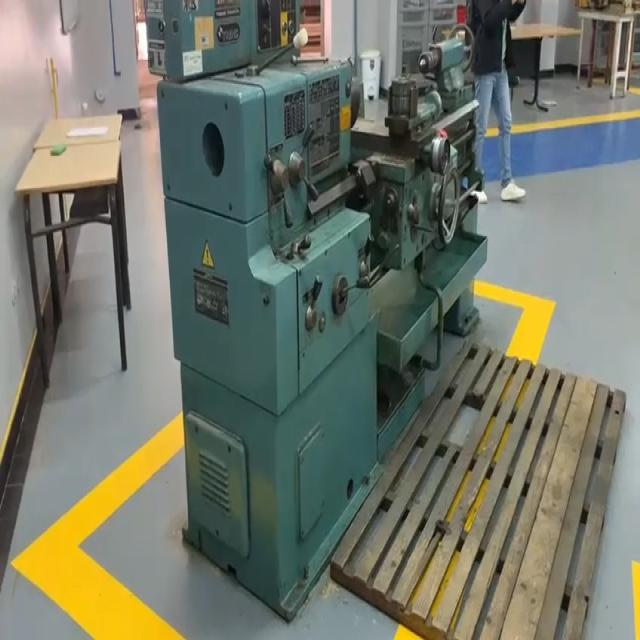tour parallele: (145, 0, 490, 624)
